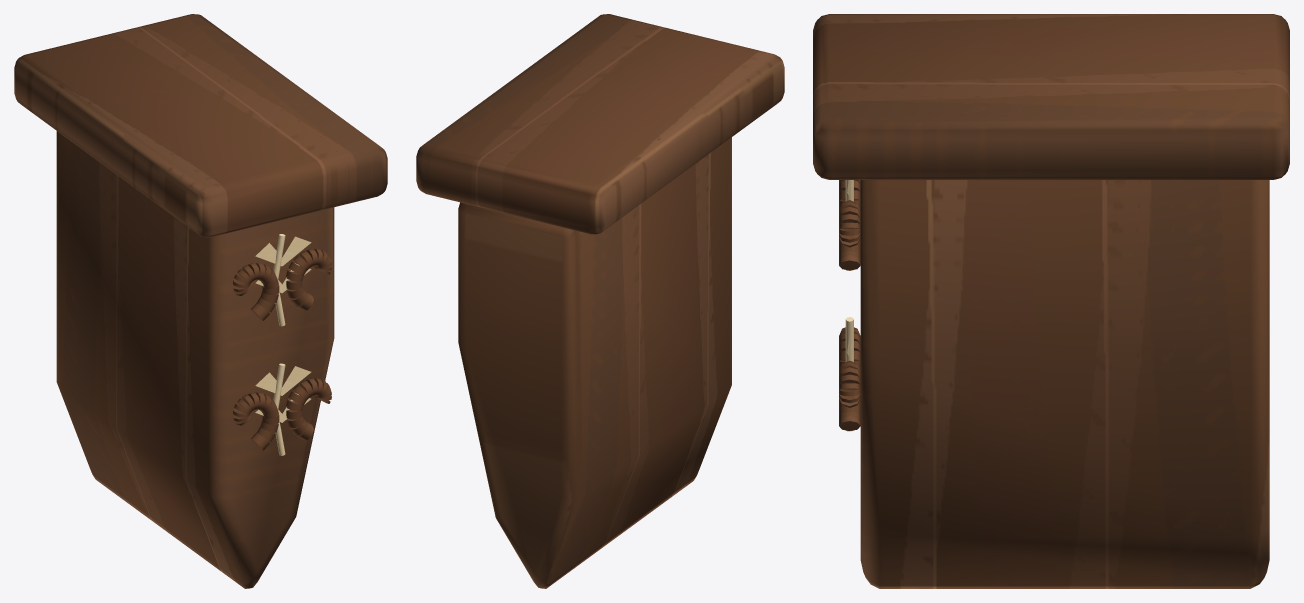
The model's file is CM_IL04_WindowConsole.fbx.
The picture shows the model from 3 angles, left to right: view 1: azimuth 30°, elevation 25°; view 2: azimuth 150°, elevation 25°; view 3: azimuth 270°, elevation 25°; orthographic projection. The views are drawn at different scales.
Visible parts, largest first — view 1: CM_IL04_WindowConsole; view 2: CM_IL04_WindowConsole; view 3: CM_IL04_WindowConsole.
Part boxes in pixels (box(x1,y1,x2,y2)): CM_IL04_WindowConsole: box(14, 14, 387, 588); CM_IL04_WindowConsole: box(416, 14, 784, 588); CM_IL04_WindowConsole: box(813, 14, 1289, 588).
Size of the model in its own units: 0.2 by 0.4335 by 0.35.
